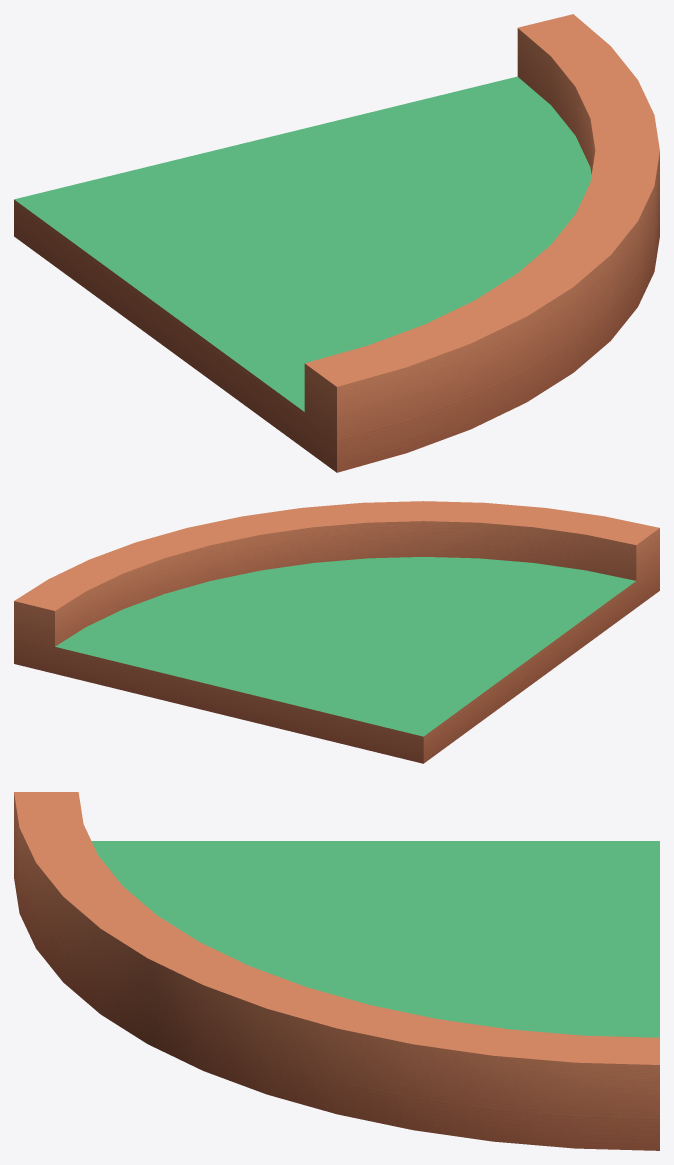
File: round-corner-c.glb
3 views of the same model, one above another, from view 1: azimuth 30°, elevation 25°; view 2: azimuth 150°, elevation 25°; view 3: azimuth 270°, elevation 25° (orthographic). The views are drawn at different scales.
Visible parts, largest first — view 1: round-corner-c; view 2: round-corner-c; view 3: round-corner-c.
Part boxes in pixels (<box>): round-corner-c: <box>14,14,659,472</box>; round-corner-c: <box>14,501,659,763</box>; round-corner-c: <box>14,792,659,1150</box>.
Size of the model in its own units: 0.9999 by 0.1467 by 0.9999.
Materials: 1 (1 with a texture image).
